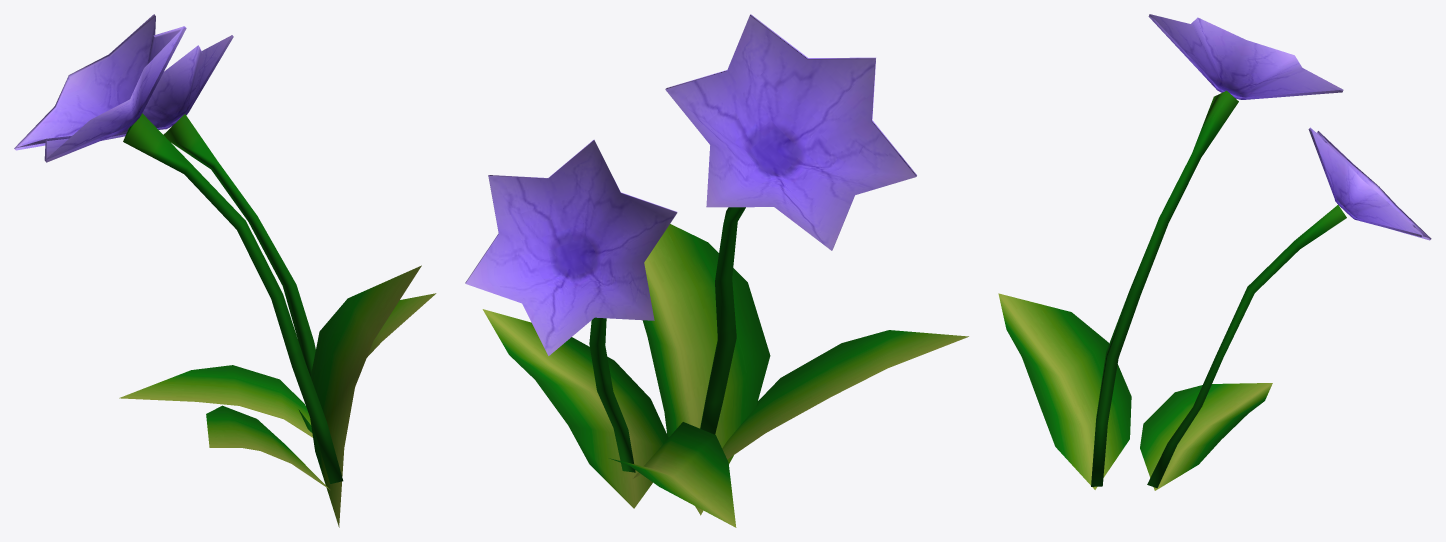
Rendered from Flower 2.glb.
The picture shows the model from 3 angles, left to right: view 1: azimuth 30°, elevation 25°; view 2: azimuth 150°, elevation 25°; view 3: azimuth 270°, elevation 25°; orthographic projection. The views are drawn at different scales.
Visible parts, largest first — view 1: Flower 2; view 2: Flower 2; view 3: Flower 2.
Part boxes in pixels (box(x1,y1,x2,y2)): Flower 2: box(14, 14, 436, 527); Flower 2: box(465, 14, 968, 527); Flower 2: box(998, 14, 1431, 490).
Size of the model in its own units: 0.4022 by 0.4927 by 0.4163.
2 materials, 2 textured.
